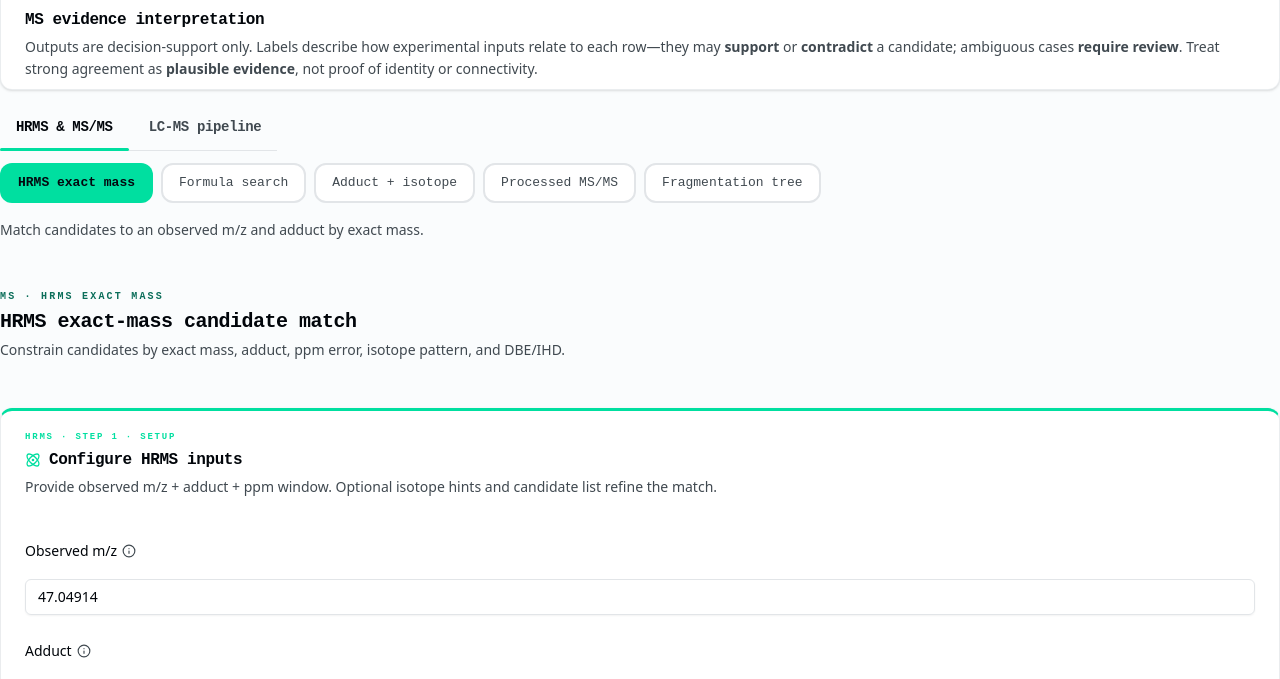
Test case: SpectraCheckMsEvidence HRMS & formula › renders Adduct + isotope pattern inference card and infer button
What coordinates should you click on to do the following:
click the tab "Adduct + isotope"
I would click on:
 (395, 183)
Its box is [314, 163, 475, 203].
(page scrolled)
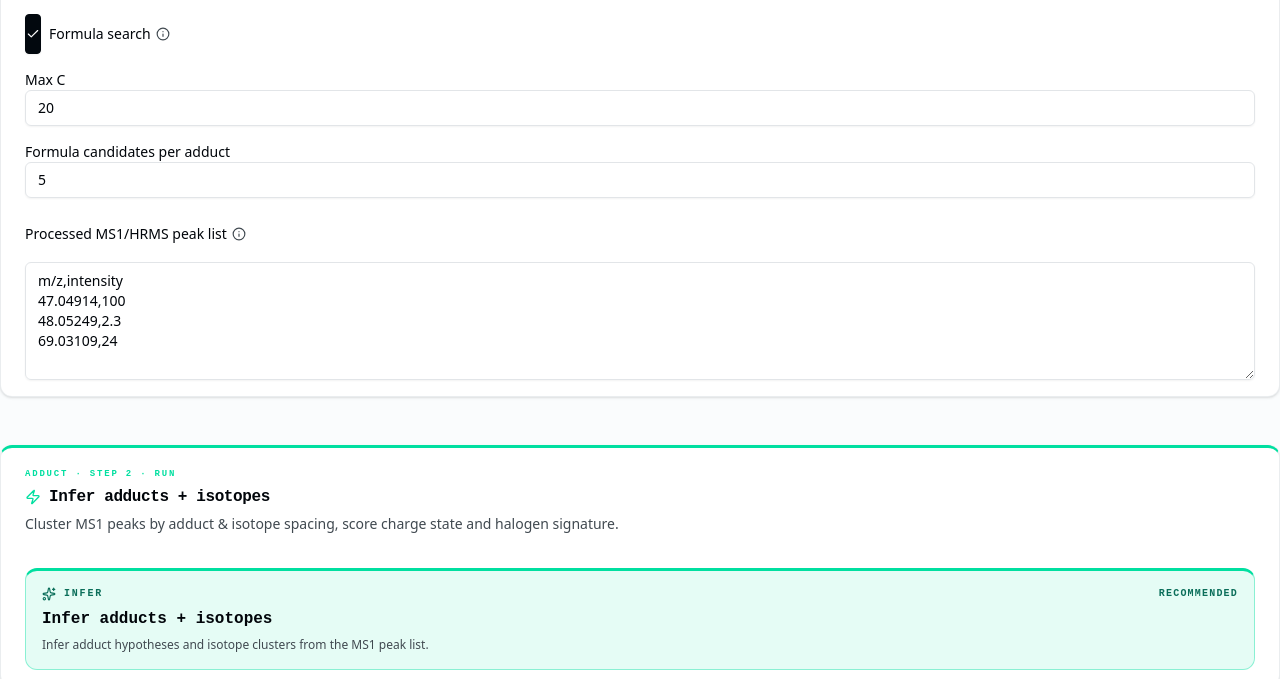
Expected: the button "Infer adducts + isotopes" is shown, [25, 568, 1255, 670]
